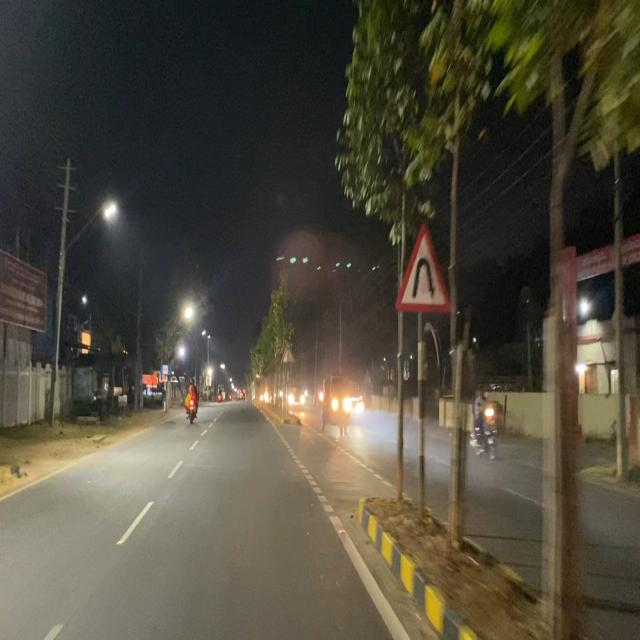bien_cam: (393, 218, 452, 315)
